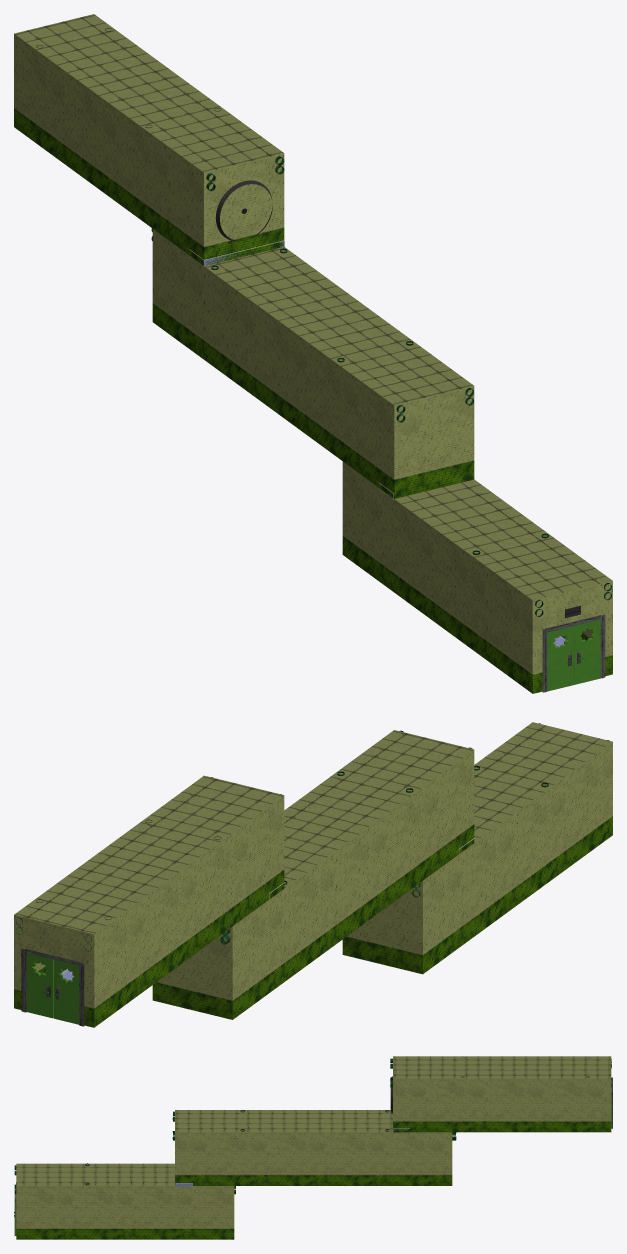
Rendered from Tunnel_Level.fbx.
The picture shows the model from 3 angles, top to bottom: view 1: azimuth 30°, elevation 25°; view 2: azimuth 150°, elevation 25°; view 3: azimuth 270°, elevation 25°; orthographic projection. The views are drawn at different scales.
Parts seen in each view (by area): view 1: Wall, Roof, Right, Left, Frame; view 2: Wall, Roof, Left, Right, Frame; view 3: Wall, Roof.
Boxes of the visible parts, x1,y1,x2,y2 form: Wall: [14, 34, 612, 693]; Roof: [14, 14, 612, 600]; Right: [547, 626, 573, 691]; Left: [574, 619, 600, 684]; Frame: [542, 614, 605, 692]; Wall: [14, 742, 612, 1027]; Roof: [14, 722, 612, 934]; Left: [26, 953, 53, 1018]; Right: [54, 959, 79, 1024]; Frame: [21, 948, 84, 1026]; Wall: [16, 1078, 611, 1239]; Roof: [16, 1056, 611, 1185].
Size of the model in its own units: 9.38 by 31.15 by 105.
